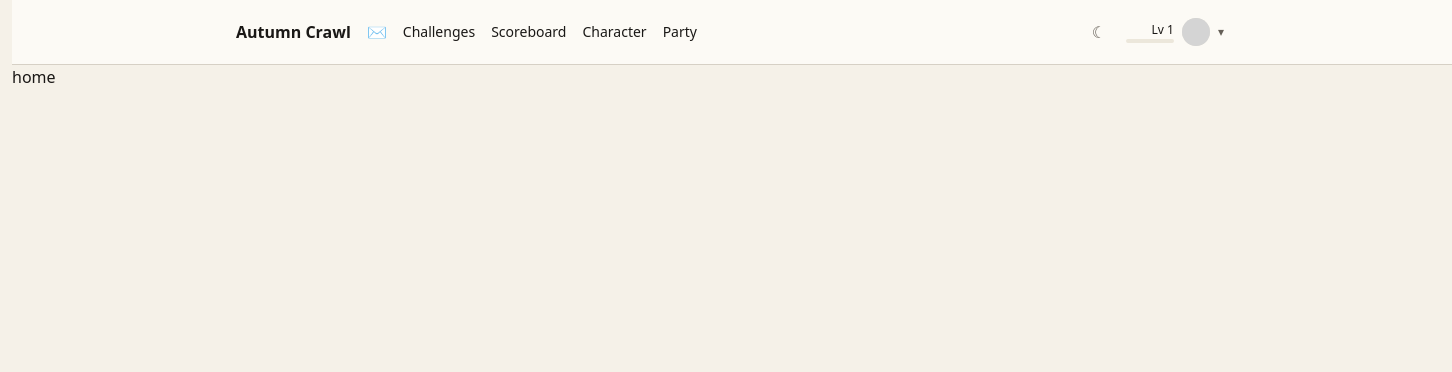
Test: AppLayout navigation › defaults an admin to the player view, with the way in behind the profile
Check: the link "Challenges" is shown, box [403,22,475,42]
Click the button with aria-label "level" at (1175, 32), box [1122,16,1228,48]
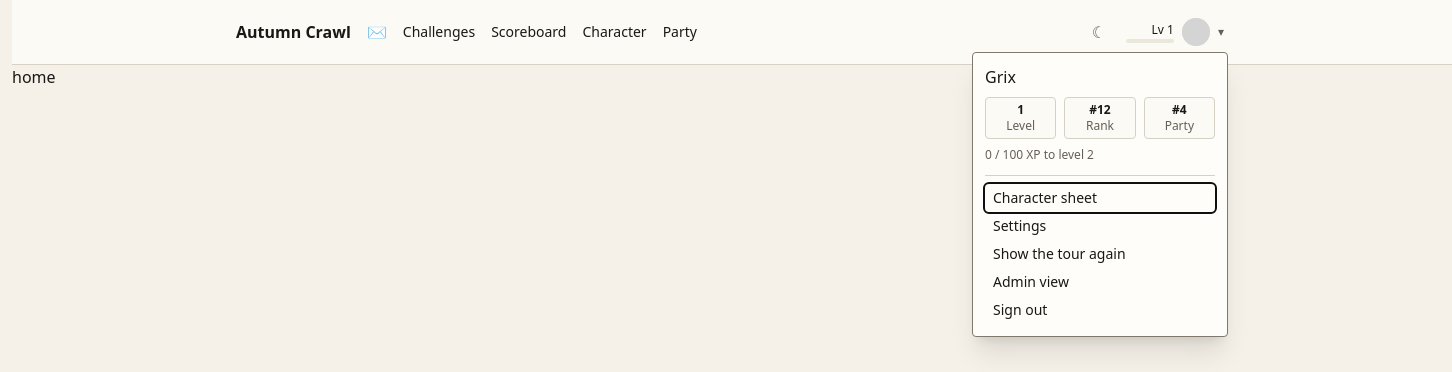
Check: the menu item "Admin view" is shown, box [985,268,1215,296]
